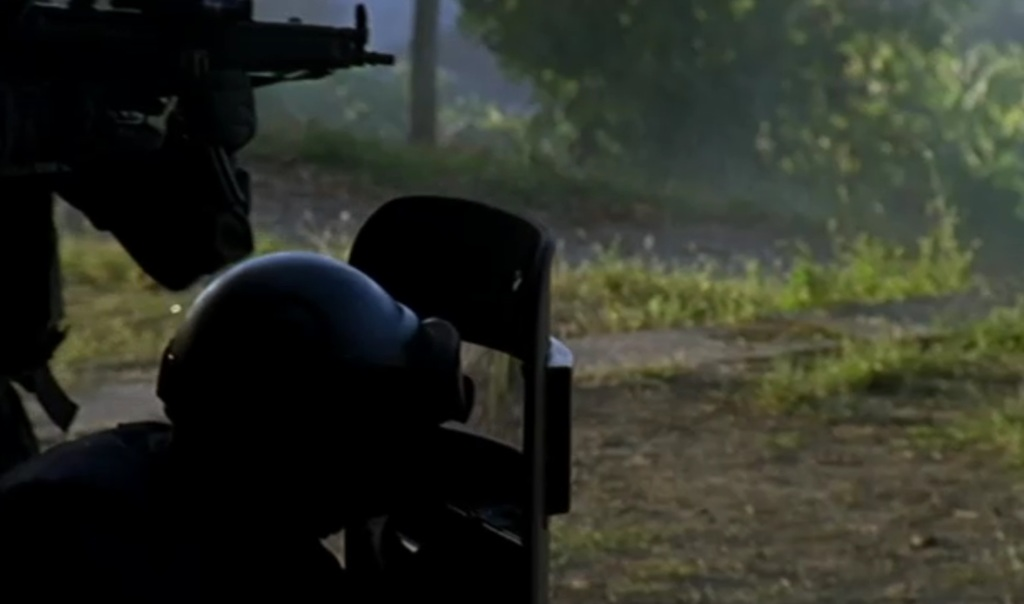Tree: (407, 0, 440, 144)
